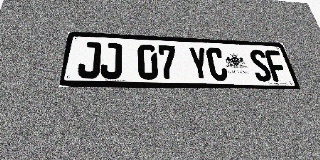0: (137, 44, 158, 80)
7: (157, 45, 178, 80)
C: (205, 47, 229, 81)
F: (264, 50, 290, 82)
J: (76, 41, 102, 79), (100, 42, 122, 79)
S: (248, 49, 273, 82)
Y: (188, 46, 211, 81)
